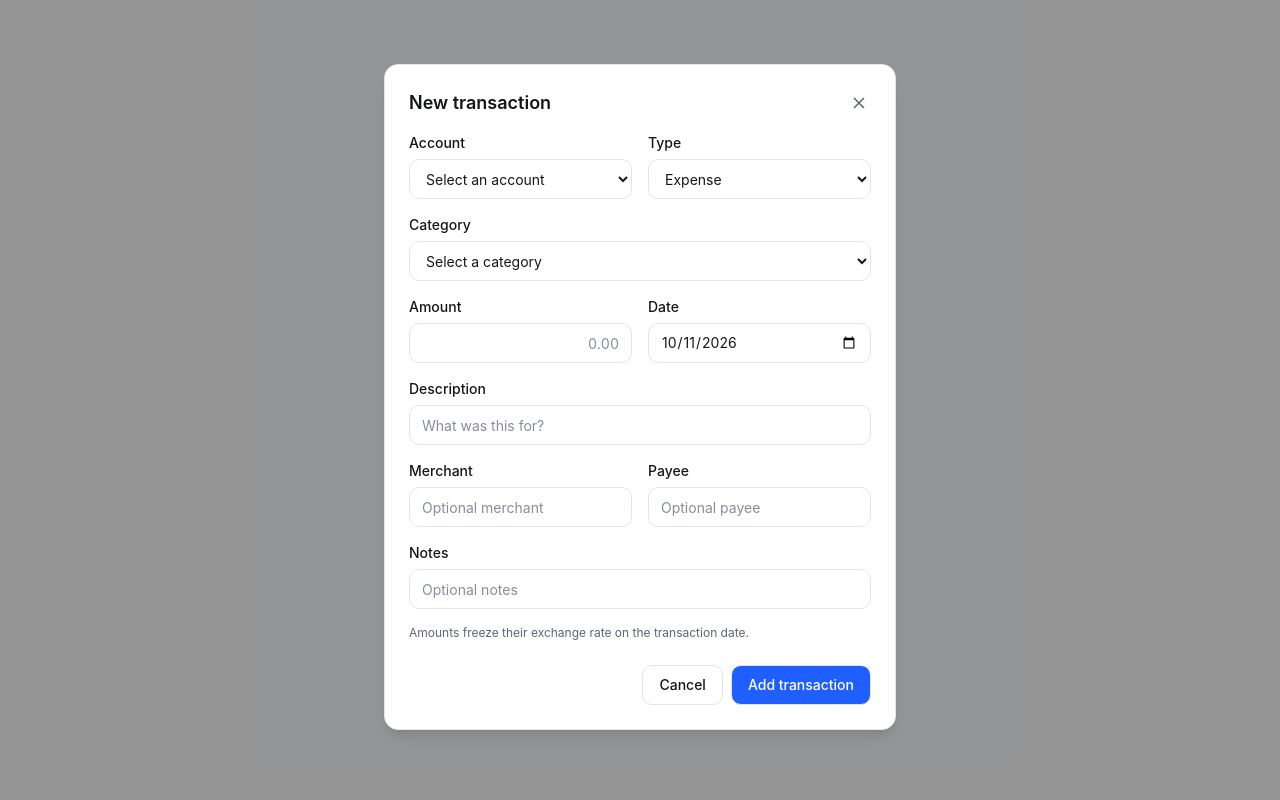
Test: TransactionFormModal category dropdown › shows an empty state with a link to category management
Select "Income" in the dropdown labelled "Type": point(760, 179) [648,159,871,199]
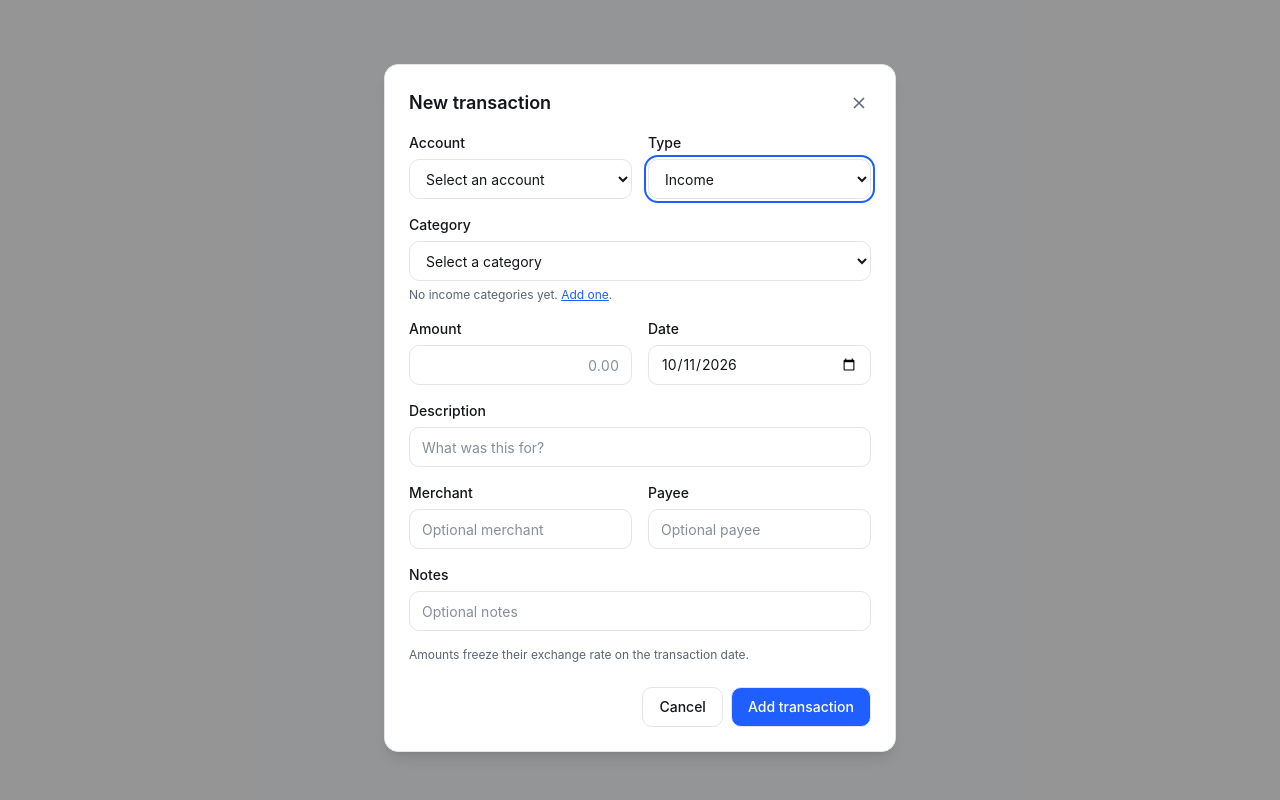
Result: the text "No income categories yet. Add one ." is shown at [409,287,612,302]
